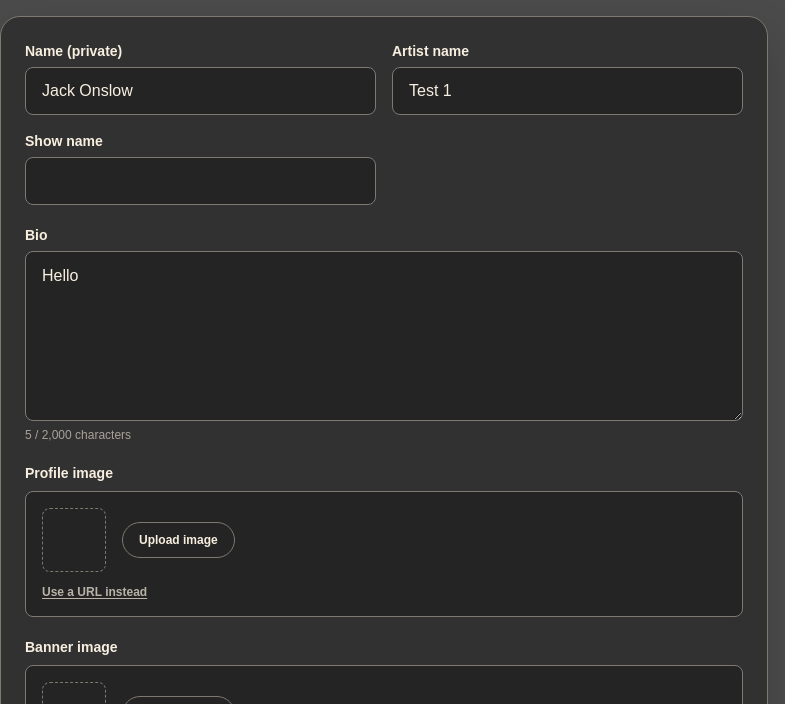
Test: ArtistProfileForm bio length › counts the bio characters against the limit
Expected: the text "5 / 2,000 characters" is shown, [25,428,131,442]
Replace the text in the text box labelled "Bio" with "Hello there" at x=384, y=336, box [25,251,743,421]
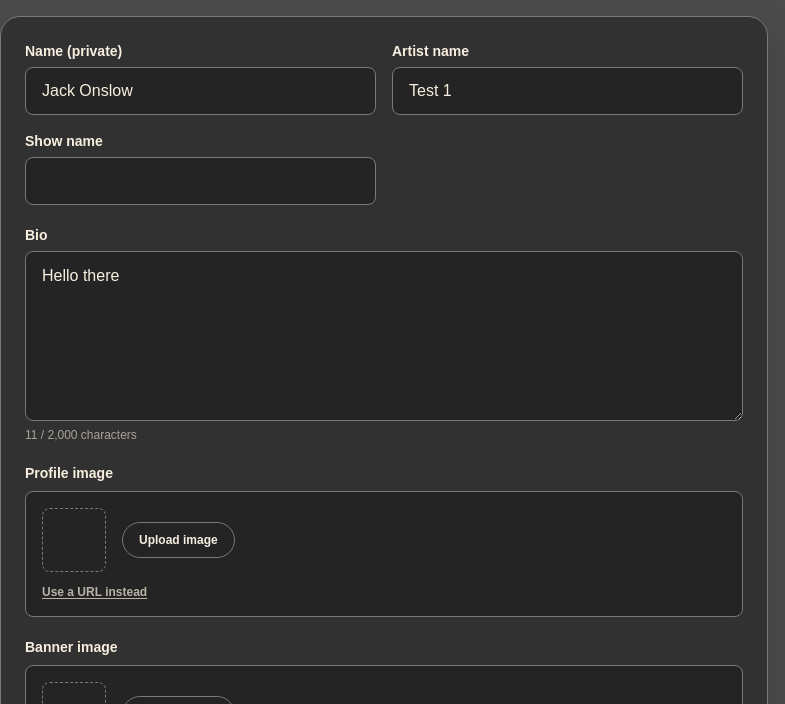
Result: the text "11 / 2,000 characters" is shown at [25,428,137,442]
